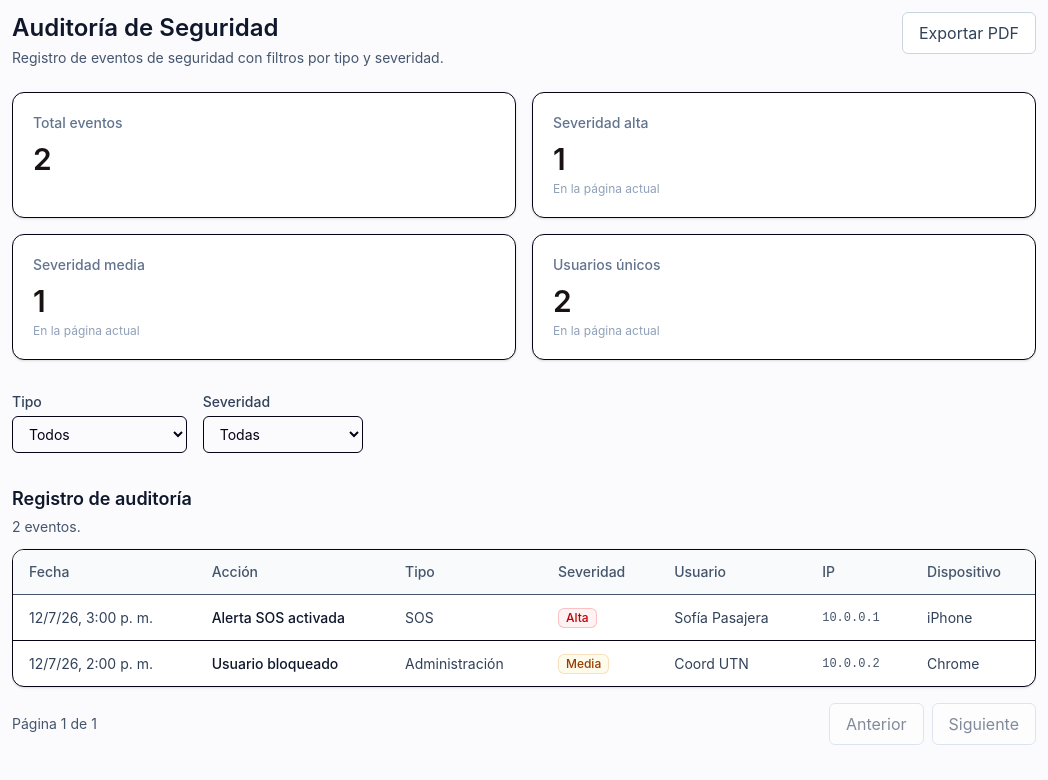
Scenario: AuditoriaPage › renderiza la tabla y filtra por severidad alta
Check: the text "Alerta SOS activada" is shown, box left=196, top=594, right=389, bottom=640
Check: the text "Usuario bloqueado" is shown, box left=196, top=640, right=389, bottom=686
Select "Alta" in the dropdown named "Filtrar por severidad" at point(283, 434), box left=203, top=416, right=363, bottom=453
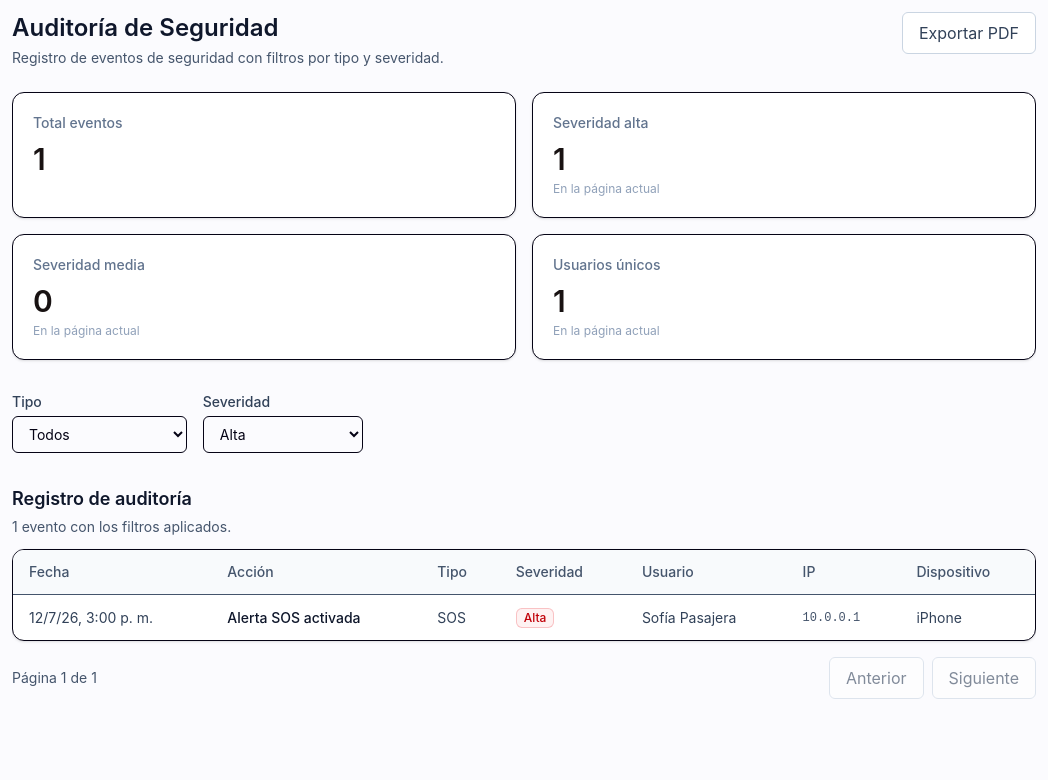
Check: the text "Alerta SOS activada" is shown, box left=211, top=594, right=421, bottom=640
Check: the text "Usuario bloqueado" is gone
